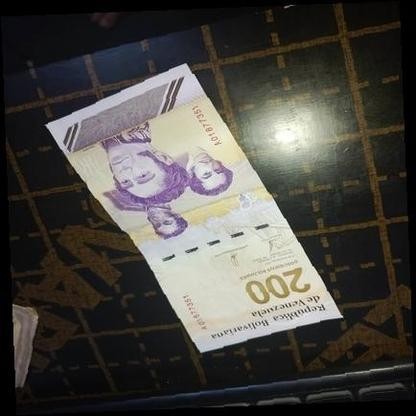two_hundred-front-vef: (44, 62, 344, 354)
